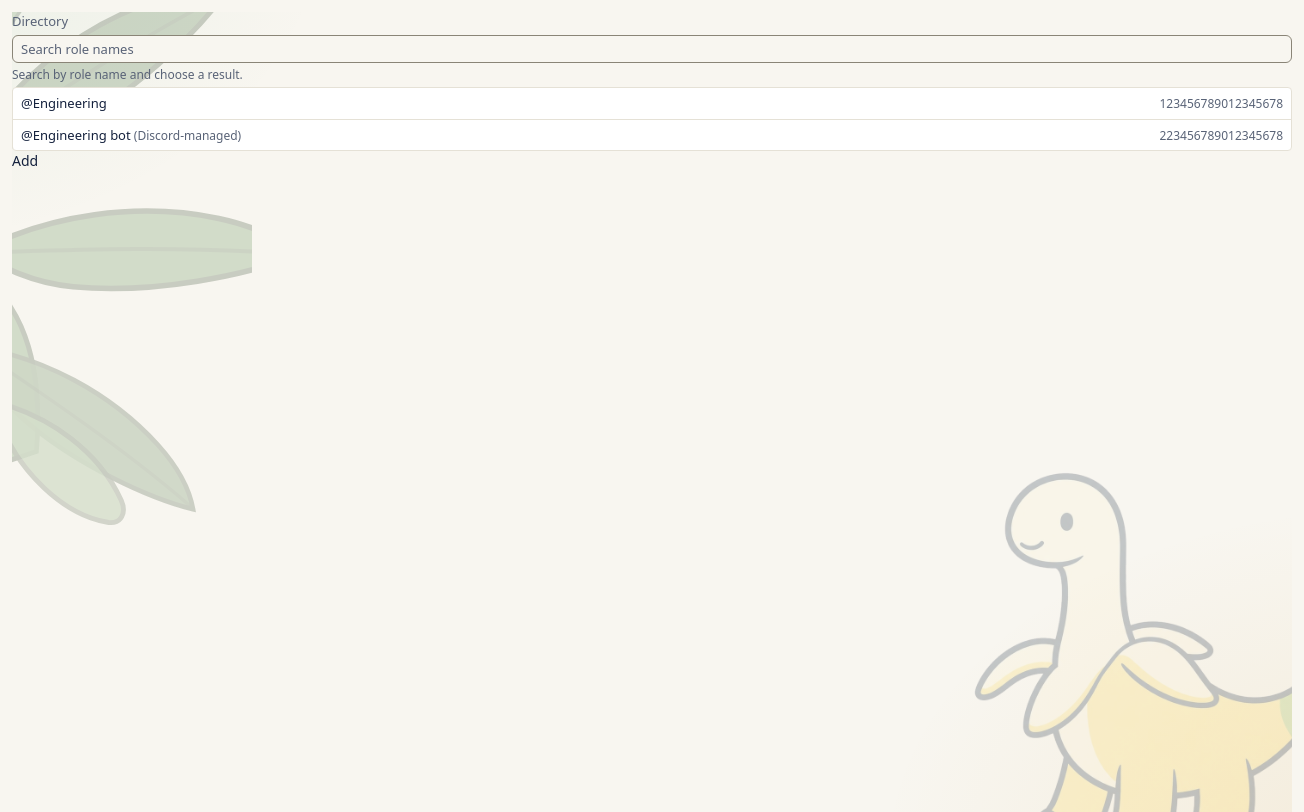
it: closes typed-query choices when tabbing out without choosing
Expected: the button "@Engineering 123456789012345678" is shown, [13,88,1291,119]
Press Tab
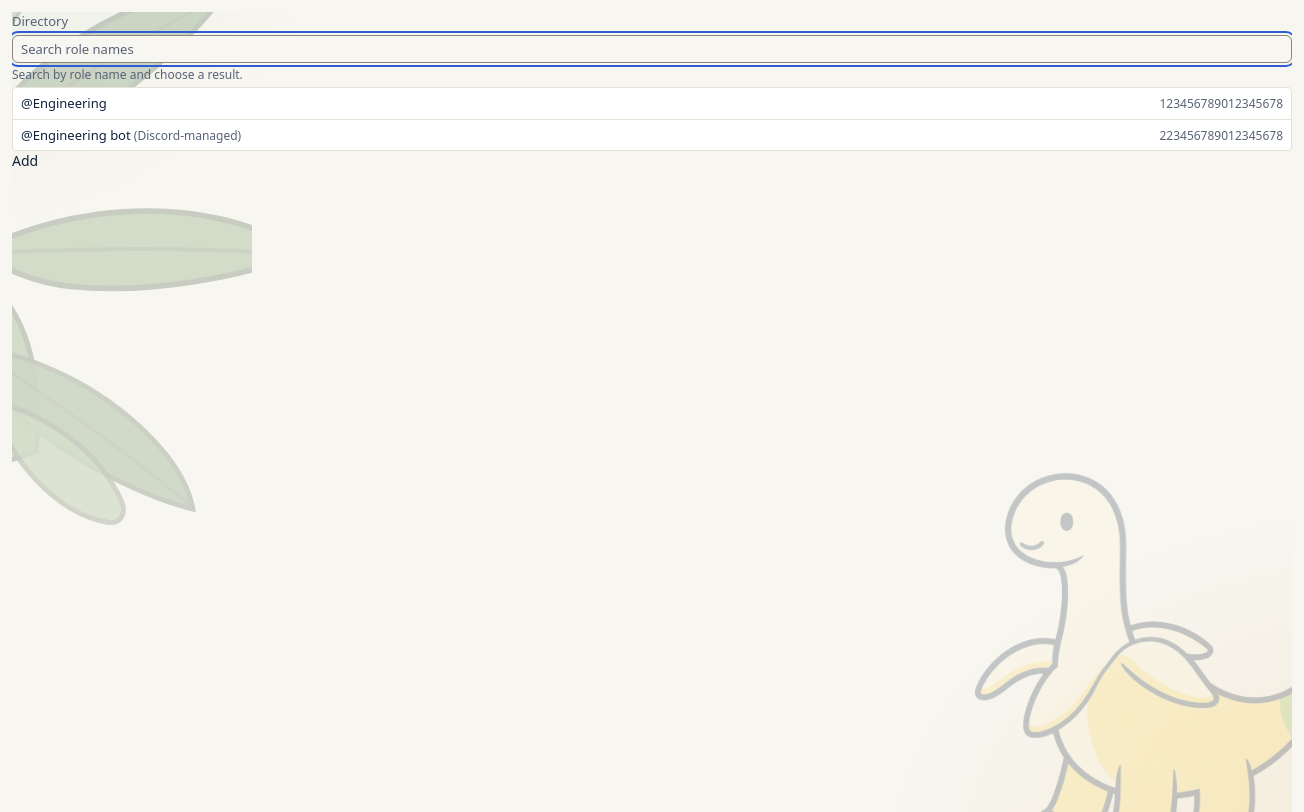
In the field: [652, 49] box [12,35,1292,63], type "engineer"
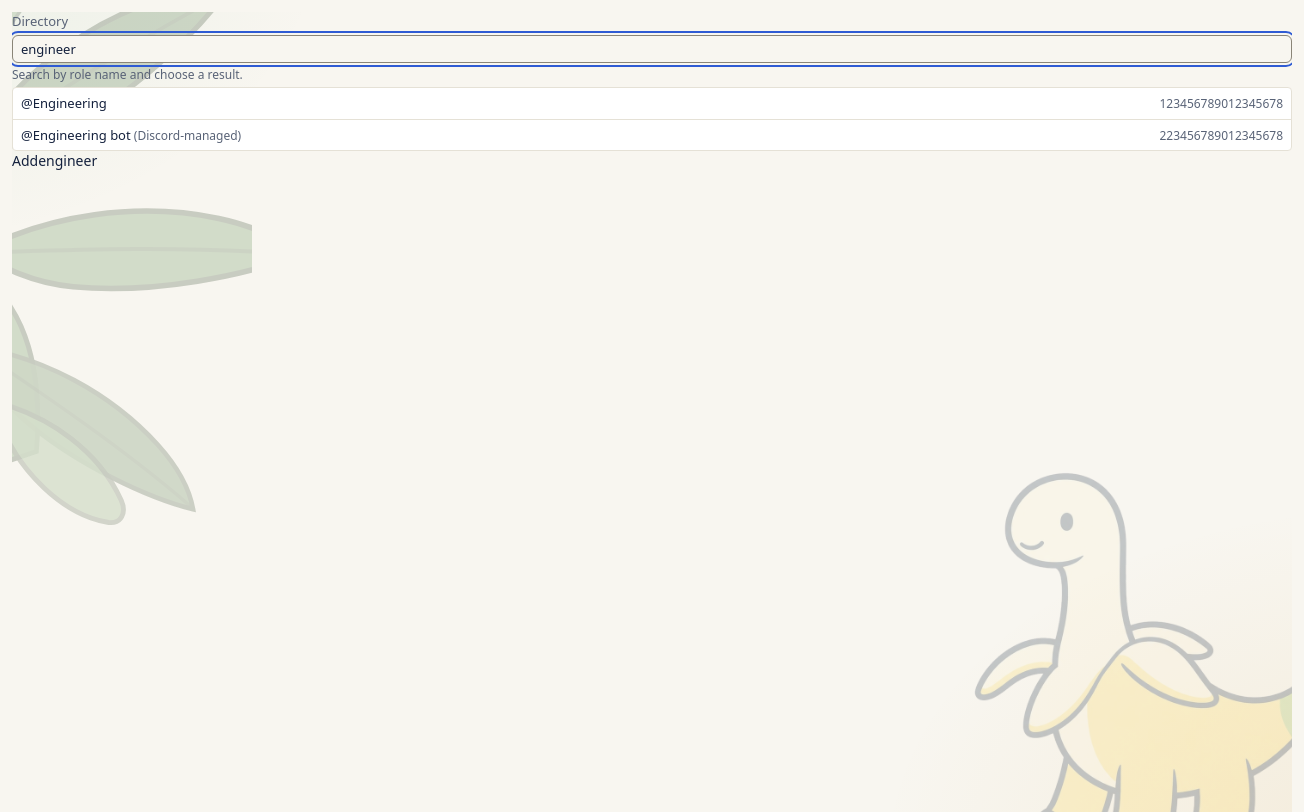
Press Tab
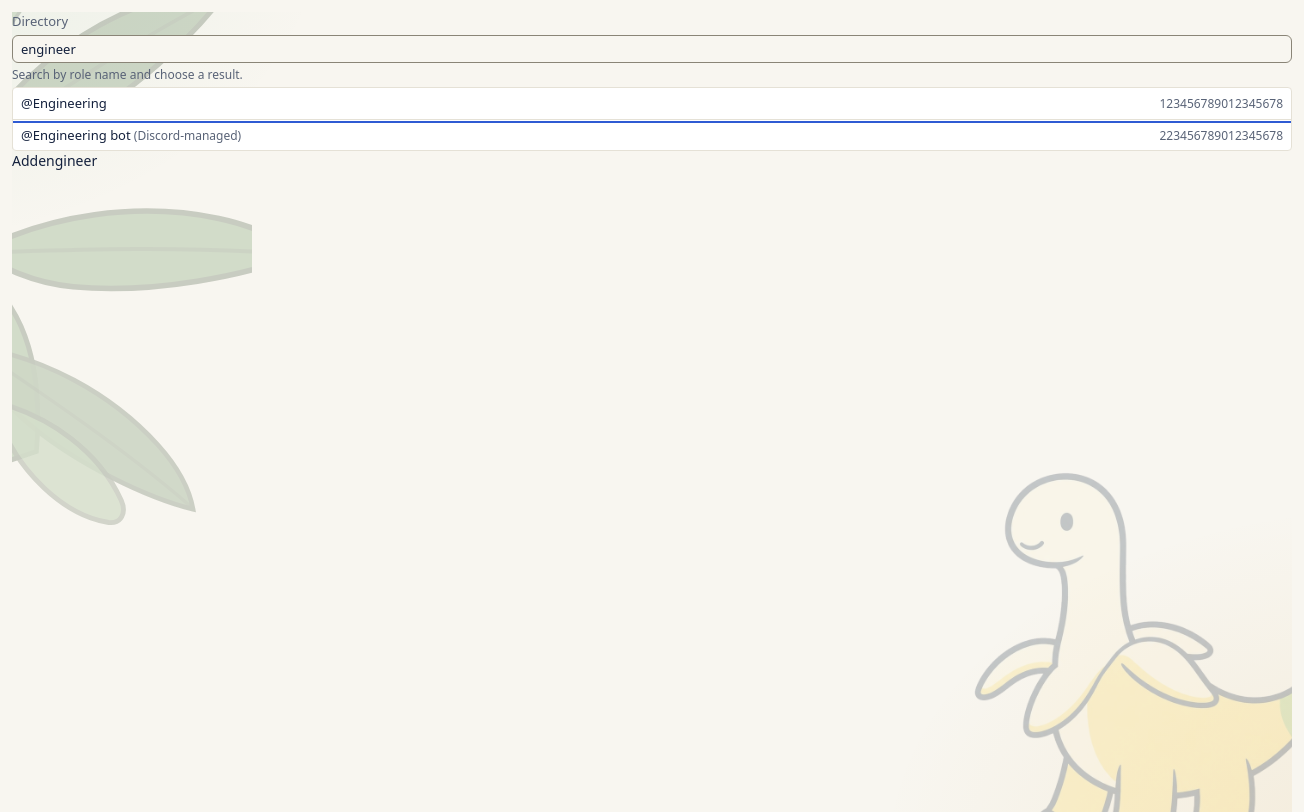
Press Tab
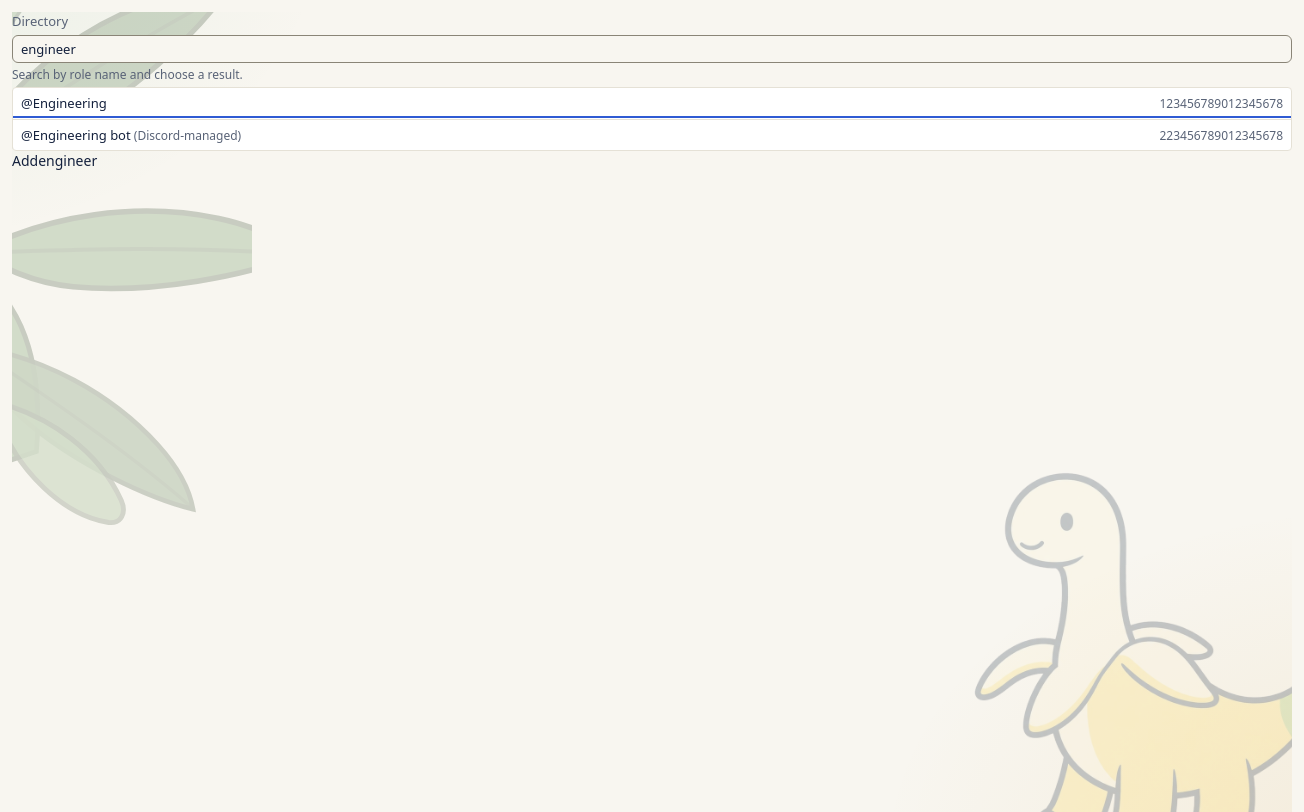
Press Tab
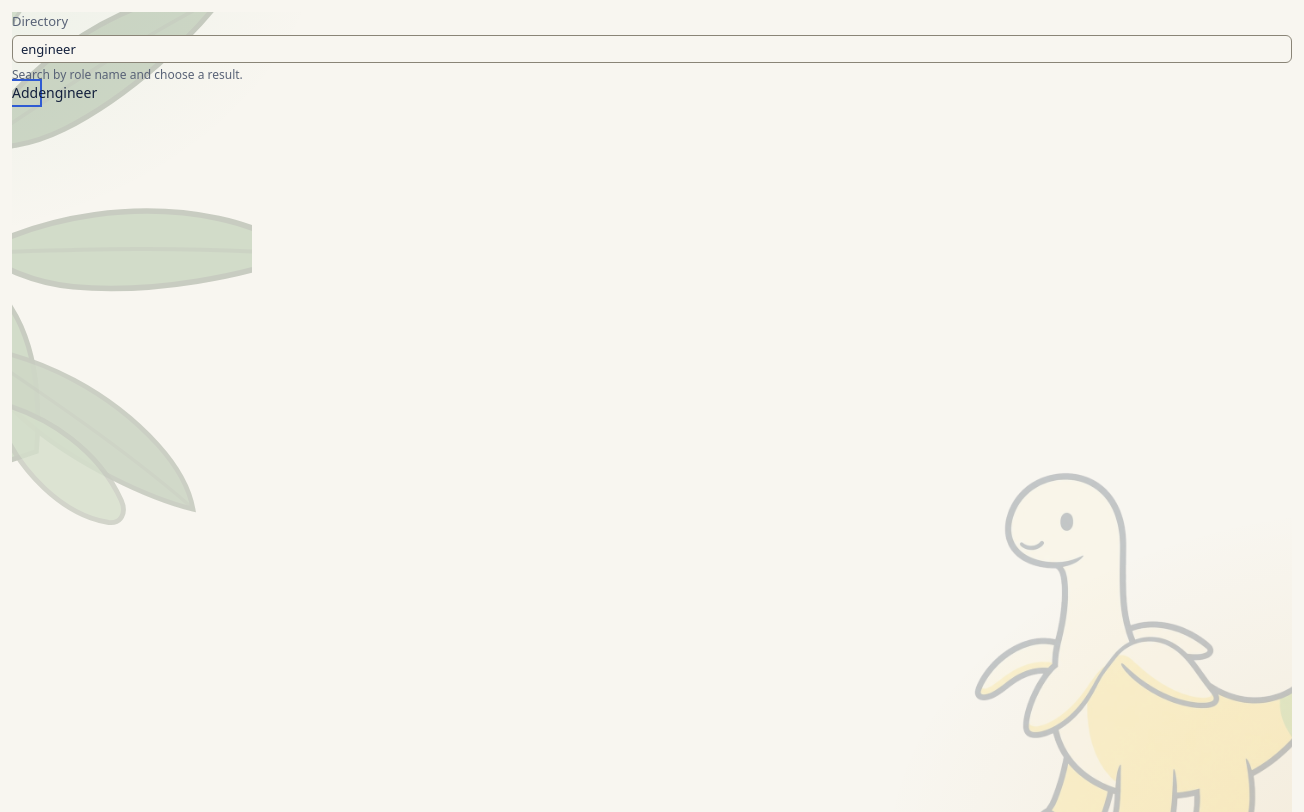
Now the list is gone
